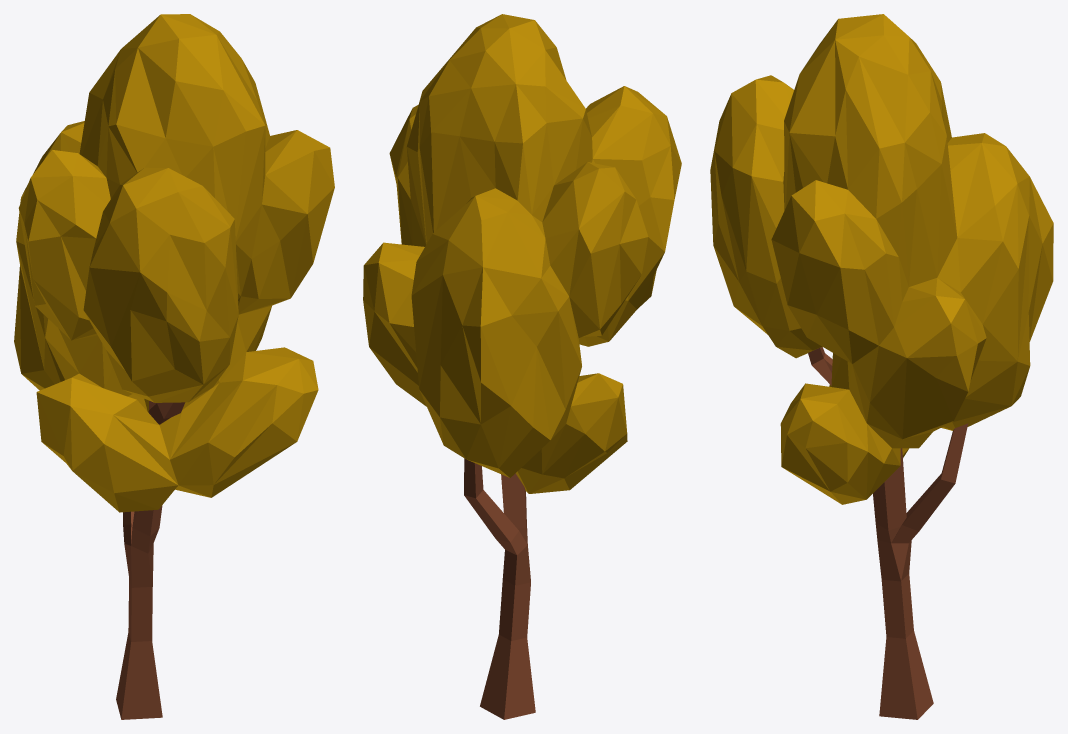
File: village_pack_tree_3.glb
The picture shows the model from 3 angles, left to right: view 1: azimuth 30°, elevation 25°; view 2: azimuth 150°, elevation 25°; view 3: azimuth 270°, elevation 25°; orthographic projection. The views are drawn at different scales.
Visible parts, largest first — view 1: tree 3_leaf 2_0; view 2: tree 3_leaf 2_0; view 3: tree 3_leaf 2_0.
Part boxes in pixels (x1,y1,x2,y2): tree 3_leaf 2_0: (14,14,334,719); tree 3_leaf 2_0: (363,14,681,719); tree 3_leaf 2_0: (710,14,1053,719).
Bounding box in the file's own units: 5.53 × 13 × 5.76.
